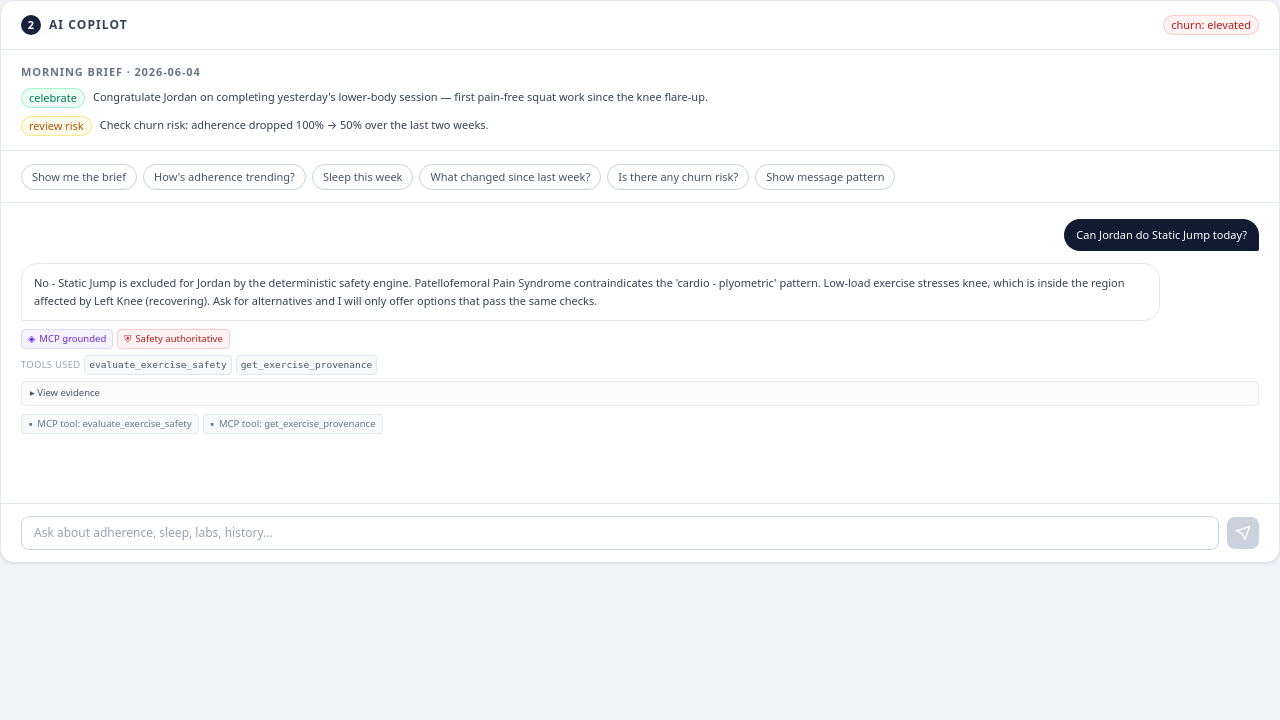
Test case: CopilotCard › MCP-grounded safety answers › keeps graph evidence collapsed until asked for
Click the heading "▸ View evidence" at (65, 393), box [30,386,100,399]
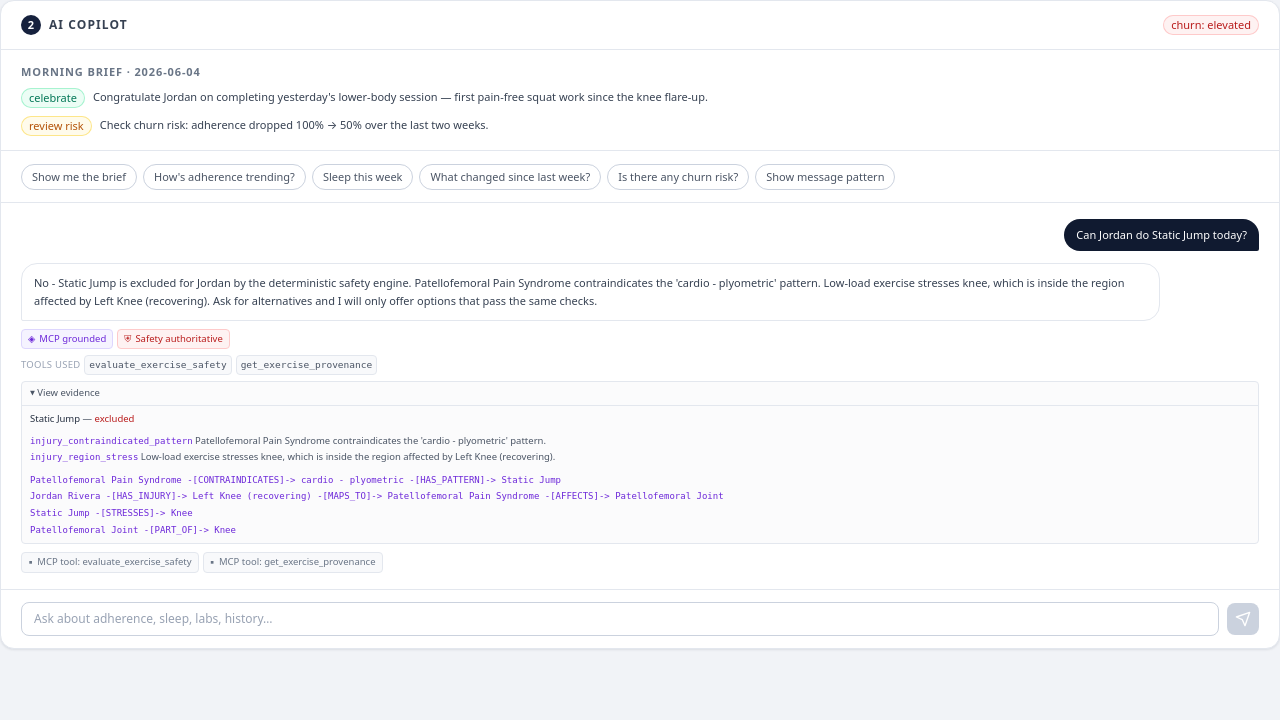
Expected: the text "injury_contraindicated_pattern" is shown, [30,436,193,446]
Expected: the list item "Patellofemoral Pain Syndrome contraindicates the 'cardio - plyometric' pattern." is shown, [195,434,546,447]
Expected: the list item "Patellofemoral Pain Syndrome -[CONTRAINDICATES]-> cardio - plyometric -[HAS_PATTERN]-> Static Jump" is shown, [30,475,561,485]
